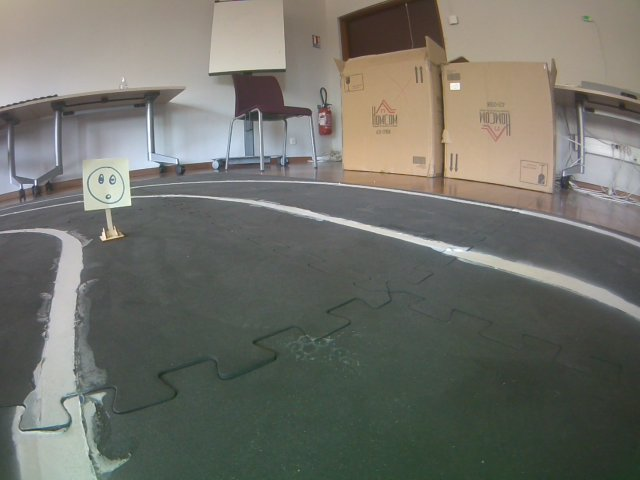Smiley: (81, 157, 133, 209)
